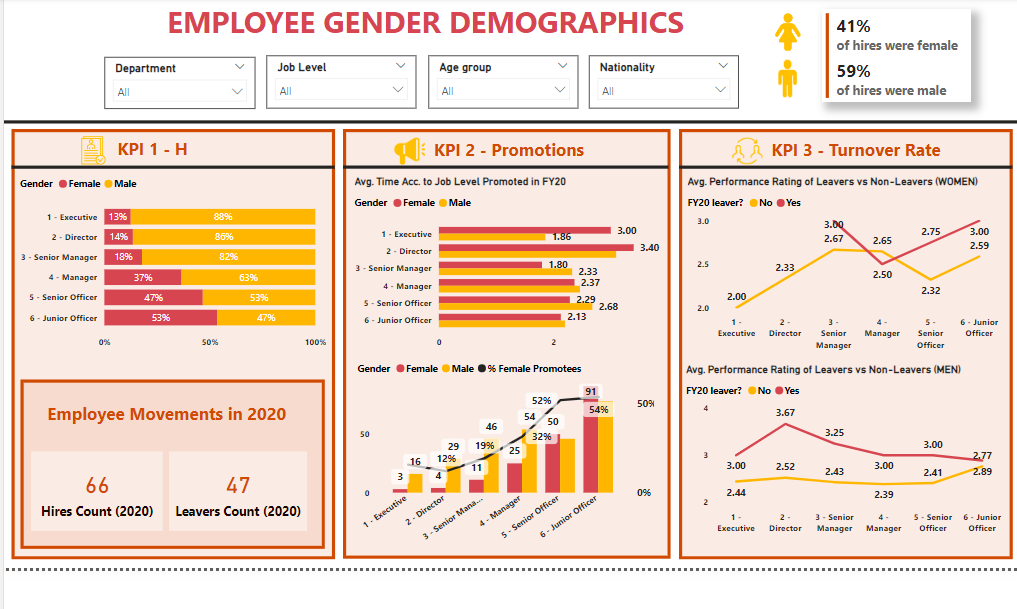

This screenshot's page, from the dashboard's own definition file:
{"tool":"powerbi","page":{"name":"Page 1","canvas":[1280,720],"ordinal":0},"visuals":[{"type":"shape","box":[850,166.7,420.5,542.3],"z":0},{"type":"shape","box":[10.3,166.7,407.7,542.3],"z":1000},{"type":"shape","box":[427.1,167.1,412.9,541.4],"z":2000},{"type":"clusteredBarChart","title":"Avg. Time Acc. to Job Level Promoted in FY20","fields":{"Category":["Pharma Group AG.Job Level after FY20 promotions"],"Y":["Avg(Pharma Group AG.Time in Job Level @01.07.2020)"],"Series":["Pharma Group AG.Gender"]},"box":[435.7,225.7,398.6,227.1],"z":3000},{"type":"textbox","box":[200.3,0,710.6,73.7],"z":4000},{"type":"shape","box":[0,145,1280,23.8],"z":5000},{"type":"slicer","fields":{"Values":["Pharma Group AG.Last Department in FY20"]},"box":[125.8,75.7,189.9,65.2],"z":6000},{"type":"slicer","fields":{"Values":["Pharma Group AG.Broad region group: nationality 1"]},"box":[737.7,74.5,188.4,66.7],"z":7000},{"type":"slicer","fields":{"Values":["Pharma Group AG.Age group"]},"box":[534.5,74.2,188.4,66.7],"z":8000},{"type":"slicer","fields":{"Values":["Pharma Group AG.Job Level after FY20 promotions"]},"box":[330.1,74.2,188.4,66.7],"z":9000},{"type":"multiRowCard","fields":{"Values":["Pharma Group AG.% Female","Pharma Group AG.% Male"]},"box":[1030.4,14.5,188.4,117.4],"z":11000},{"type":"lineChart","title":"Avg. Performance Rating of Leavers vs Non-Leavers (WOMEN)","fields":{"Y":["Avg(Pharma Group AG.FY19 Performance Rating)"],"Category":["Pharma Group AG.Job Level after FY20 promotions"],"Series":["Pharma Group AG.FY20 leaver?"]},"box":[855.7,225.7,405.7,227.1],"z":12000},{"type":"lineChart","title":"Avg. Performance Rating of Leavers vs Non-Leavers (MEN)","fields":{"Y":["Avg(Pharma Group AG.FY19 Performance Rating)"],"Category":["Pharma Group AG.Job Level after FY20 promotions"],"Series":["Pharma Group AG.FY20 leaver?"]},"box":[855.1,460.9,411.6,236.2],"z":13000},{"type":"lineClusteredColumnComboChart","fields":{"Y":["CountNonNull(Pharma Group AG.Employee ID)"],"Series":["Pharma Group AG.Gender"],"Category":["Pharma Group AG.Job Level after FY21 promotions"],"Y2":["Pharma Group AG.% Female"]},"box":[440.2,448.8,384,248.2],"z":14000},{"type":"textbox","box":[137.1,170,170,44.3],"z":15000},{"type":"textbox","box":[537.1,171.4,212.9,44.3],"z":16000},{"type":"textbox","box":[961.4,171.4,232.9,45.7],"z":17000},{"type":"shape","box":[10.1,208.7,407.2,13],"z":18000},{"type":"shape","box":[427.1,208.6,410,12.9],"z":19000},{"type":"shape","box":[850.7,208.7,420.3,13],"z":20000},{"type":"image","box":[956.1,73.9,62.3,58],"z":21000},{"type":"image","box":[956.1,15.9,62.3,58],"z":22000},{"type":"image","box":[89.9,169.6,43.5,46.4],"z":23000},{"type":"image","box":[482.9,171.4,54.3,44.3],"z":24000},{"type":"image","box":[910,171.2,51.2,43.8],"z":25000},{"type":"card","fields":{"Values":["HR MANAGER.newhire"]},"box":[34,572.6,166.3,100.2],"z":26000},{"type":"card","fields":{"Values":["HR MANAGER.leaver2020"]},"box":[207.9,572.6,173.9,100.2],"z":27003},{"type":"shape","box":[20.8,481.9,383.6,213.5],"z":27004},{"type":"hundredPercentStackedBarChart","fields":{"Y":["CountNonNull(Pharma Group AG.Employee ID)"],"Category":["Pharma Group AG.Job Level after FY20 promotions"],"Series":["Pharma Group AG.Gender"]},"box":[15.7,215.7,395.7,235.7],"z":27005},{"type":"textbox","box":[9.4,504.6,391.2,41.6],"z":27006}]}

Visuals, with their boxes on the page's 1280x720 design canvas (x1, y1, x2, y2). These are canvas units, not pixel positions in the 1017x609 screenshot, which may show the page scaled, cropped or inside an application window:
shape: <bbox>850, 167, 1270, 709</bbox>
shape: <bbox>10, 167, 418, 709</bbox>
shape: <bbox>427, 167, 840, 708</bbox>
"Avg. Time Acc. to Job Level Promoted in FY20" clusteredBarChart: <bbox>436, 226, 834, 453</bbox>
textbox: <bbox>200, 0, 911, 74</bbox>
shape: <bbox>0, 145, 1280, 169</bbox>
slicer - Pharma Group AG.Last Department in FY20: <bbox>126, 76, 316, 141</bbox>
slicer - Pharma Group AG.Broad region group: nationality 1: <bbox>738, 74, 926, 141</bbox>
slicer - Pharma Group AG.Age group: <bbox>534, 74, 723, 141</bbox>
slicer - Pharma Group AG.Job Level after FY20 promotions: <bbox>330, 74, 518, 141</bbox>
multiRowCard - Pharma Group AG.% Female x Pharma Group AG.% Male: <bbox>1030, 14, 1219, 132</bbox>
"Avg. Performance Rating of Leavers vs Non-Leavers (WOMEN)" lineChart: <bbox>856, 226, 1261, 453</bbox>
"Avg. Performance Rating of Leavers vs Non-Leavers (MEN)" lineChart: <bbox>855, 461, 1267, 697</bbox>
lineClusteredColumnComboChart - CountNonNull(Pharma Group AG.Employee ID) x Pharma Group AG.Gender: <bbox>440, 449, 824, 697</bbox>
textbox: <bbox>137, 170, 307, 214</bbox>
textbox: <bbox>537, 171, 750, 216</bbox>
textbox: <bbox>961, 171, 1194, 217</bbox>
shape: <bbox>10, 209, 417, 222</bbox>
shape: <bbox>427, 209, 837, 222</bbox>
shape: <bbox>851, 209, 1271, 222</bbox>
image: <bbox>956, 74, 1018, 132</bbox>
image: <bbox>956, 16, 1018, 74</bbox>
image: <bbox>90, 170, 133, 216</bbox>
image: <bbox>483, 171, 537, 216</bbox>
image: <bbox>910, 171, 961, 215</bbox>
card - HR MANAGER.newhire: <bbox>34, 573, 200, 673</bbox>
card - HR MANAGER.leaver2020: <bbox>208, 573, 382, 673</bbox>
shape: <bbox>21, 482, 404, 695</bbox>
hundredPercentStackedBarChart - CountNonNull(Pharma Group AG.Employee ID) x Pharma Group AG.Job Level after FY20 promotions: <bbox>16, 216, 411, 451</bbox>
textbox: <bbox>9, 505, 401, 546</bbox>
